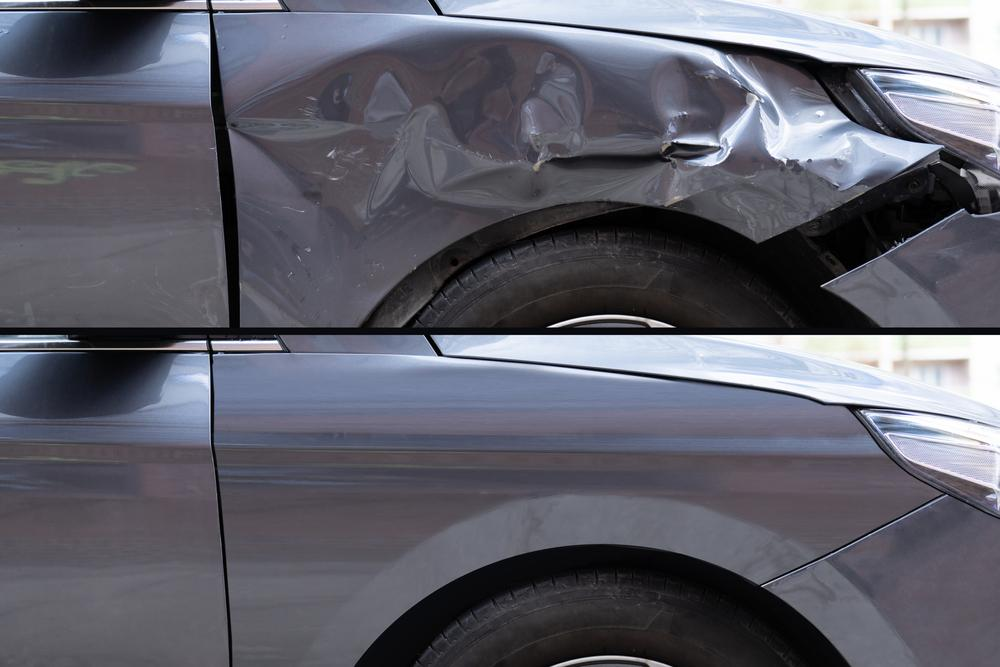dent: (216, 32, 897, 238)
